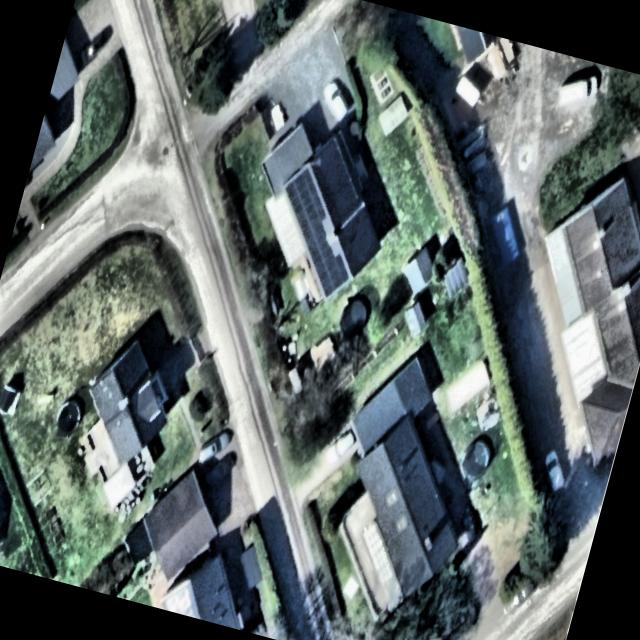roof_pv: (274, 166, 335, 240), (294, 236, 358, 304)
